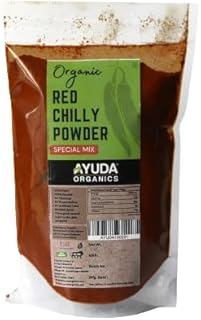Chilli Powder: (3, 21, 189, 313)
